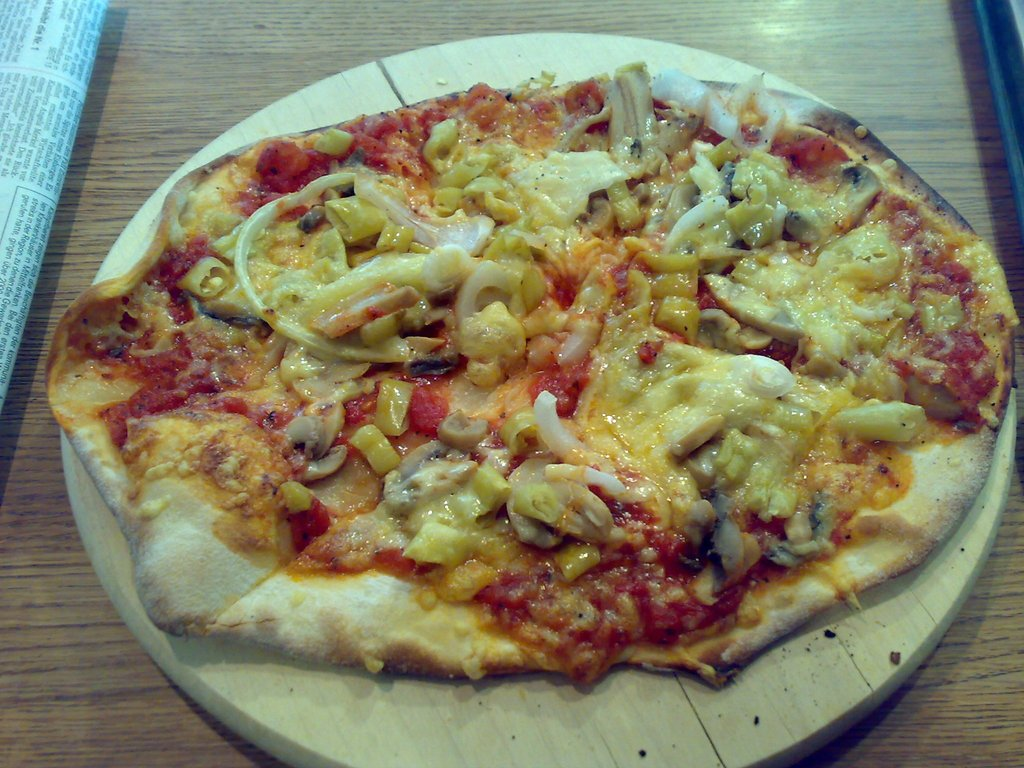Pizza: (47, 61, 1018, 685)
